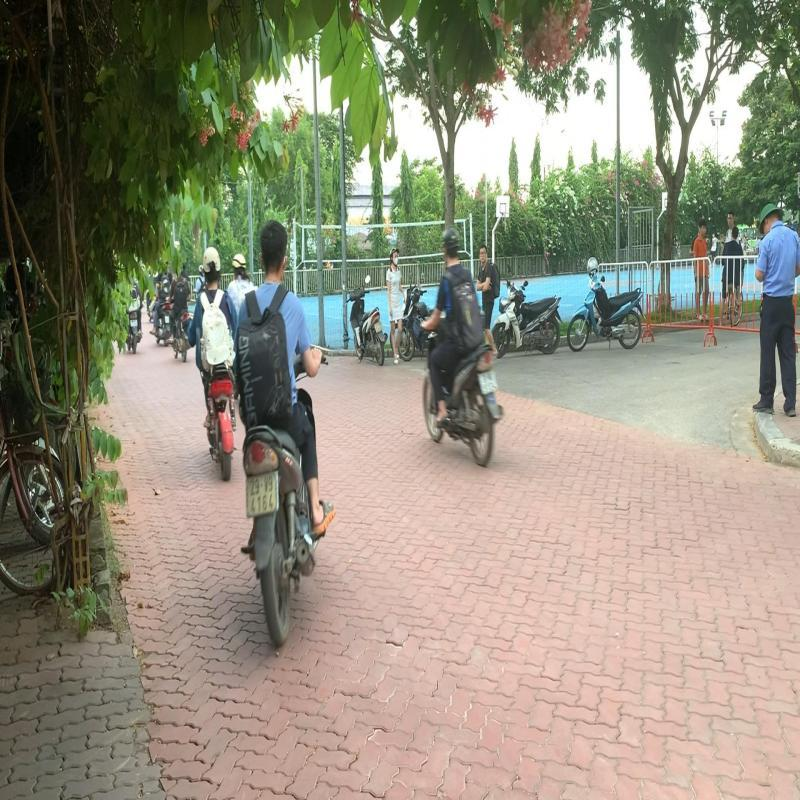licenseplate: (246, 472, 278, 514)
motorcyclist: (230, 217, 338, 651)
nohelmet: (260, 222, 287, 282)
